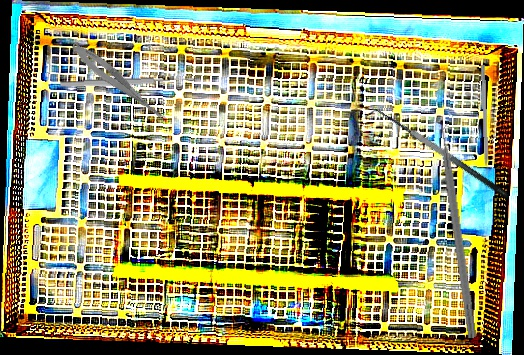Chopper: (436, 115, 490, 339), (474, 64, 490, 182)
Micro Scissor: (67, 38, 174, 127)
Spatula Surgical: (364, 98, 512, 212)
Surgical Spoon: (59, 75, 195, 89)
